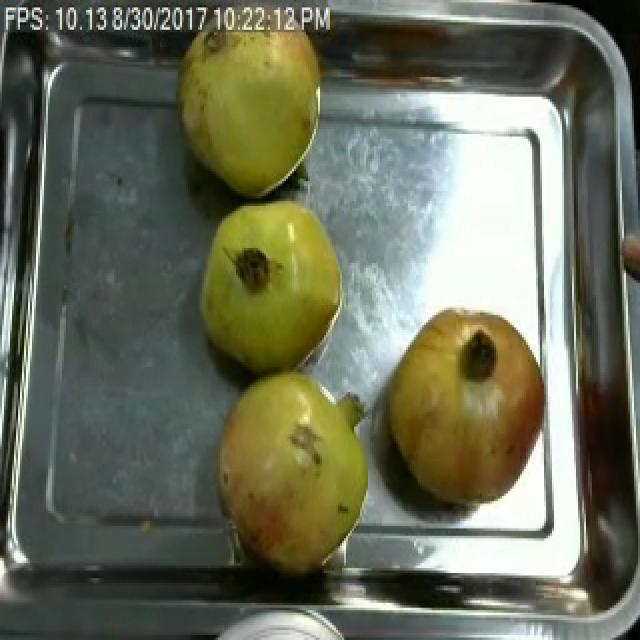fruit: (202, 362, 382, 581), (382, 297, 554, 518), (166, 5, 330, 203), (190, 194, 352, 382)
